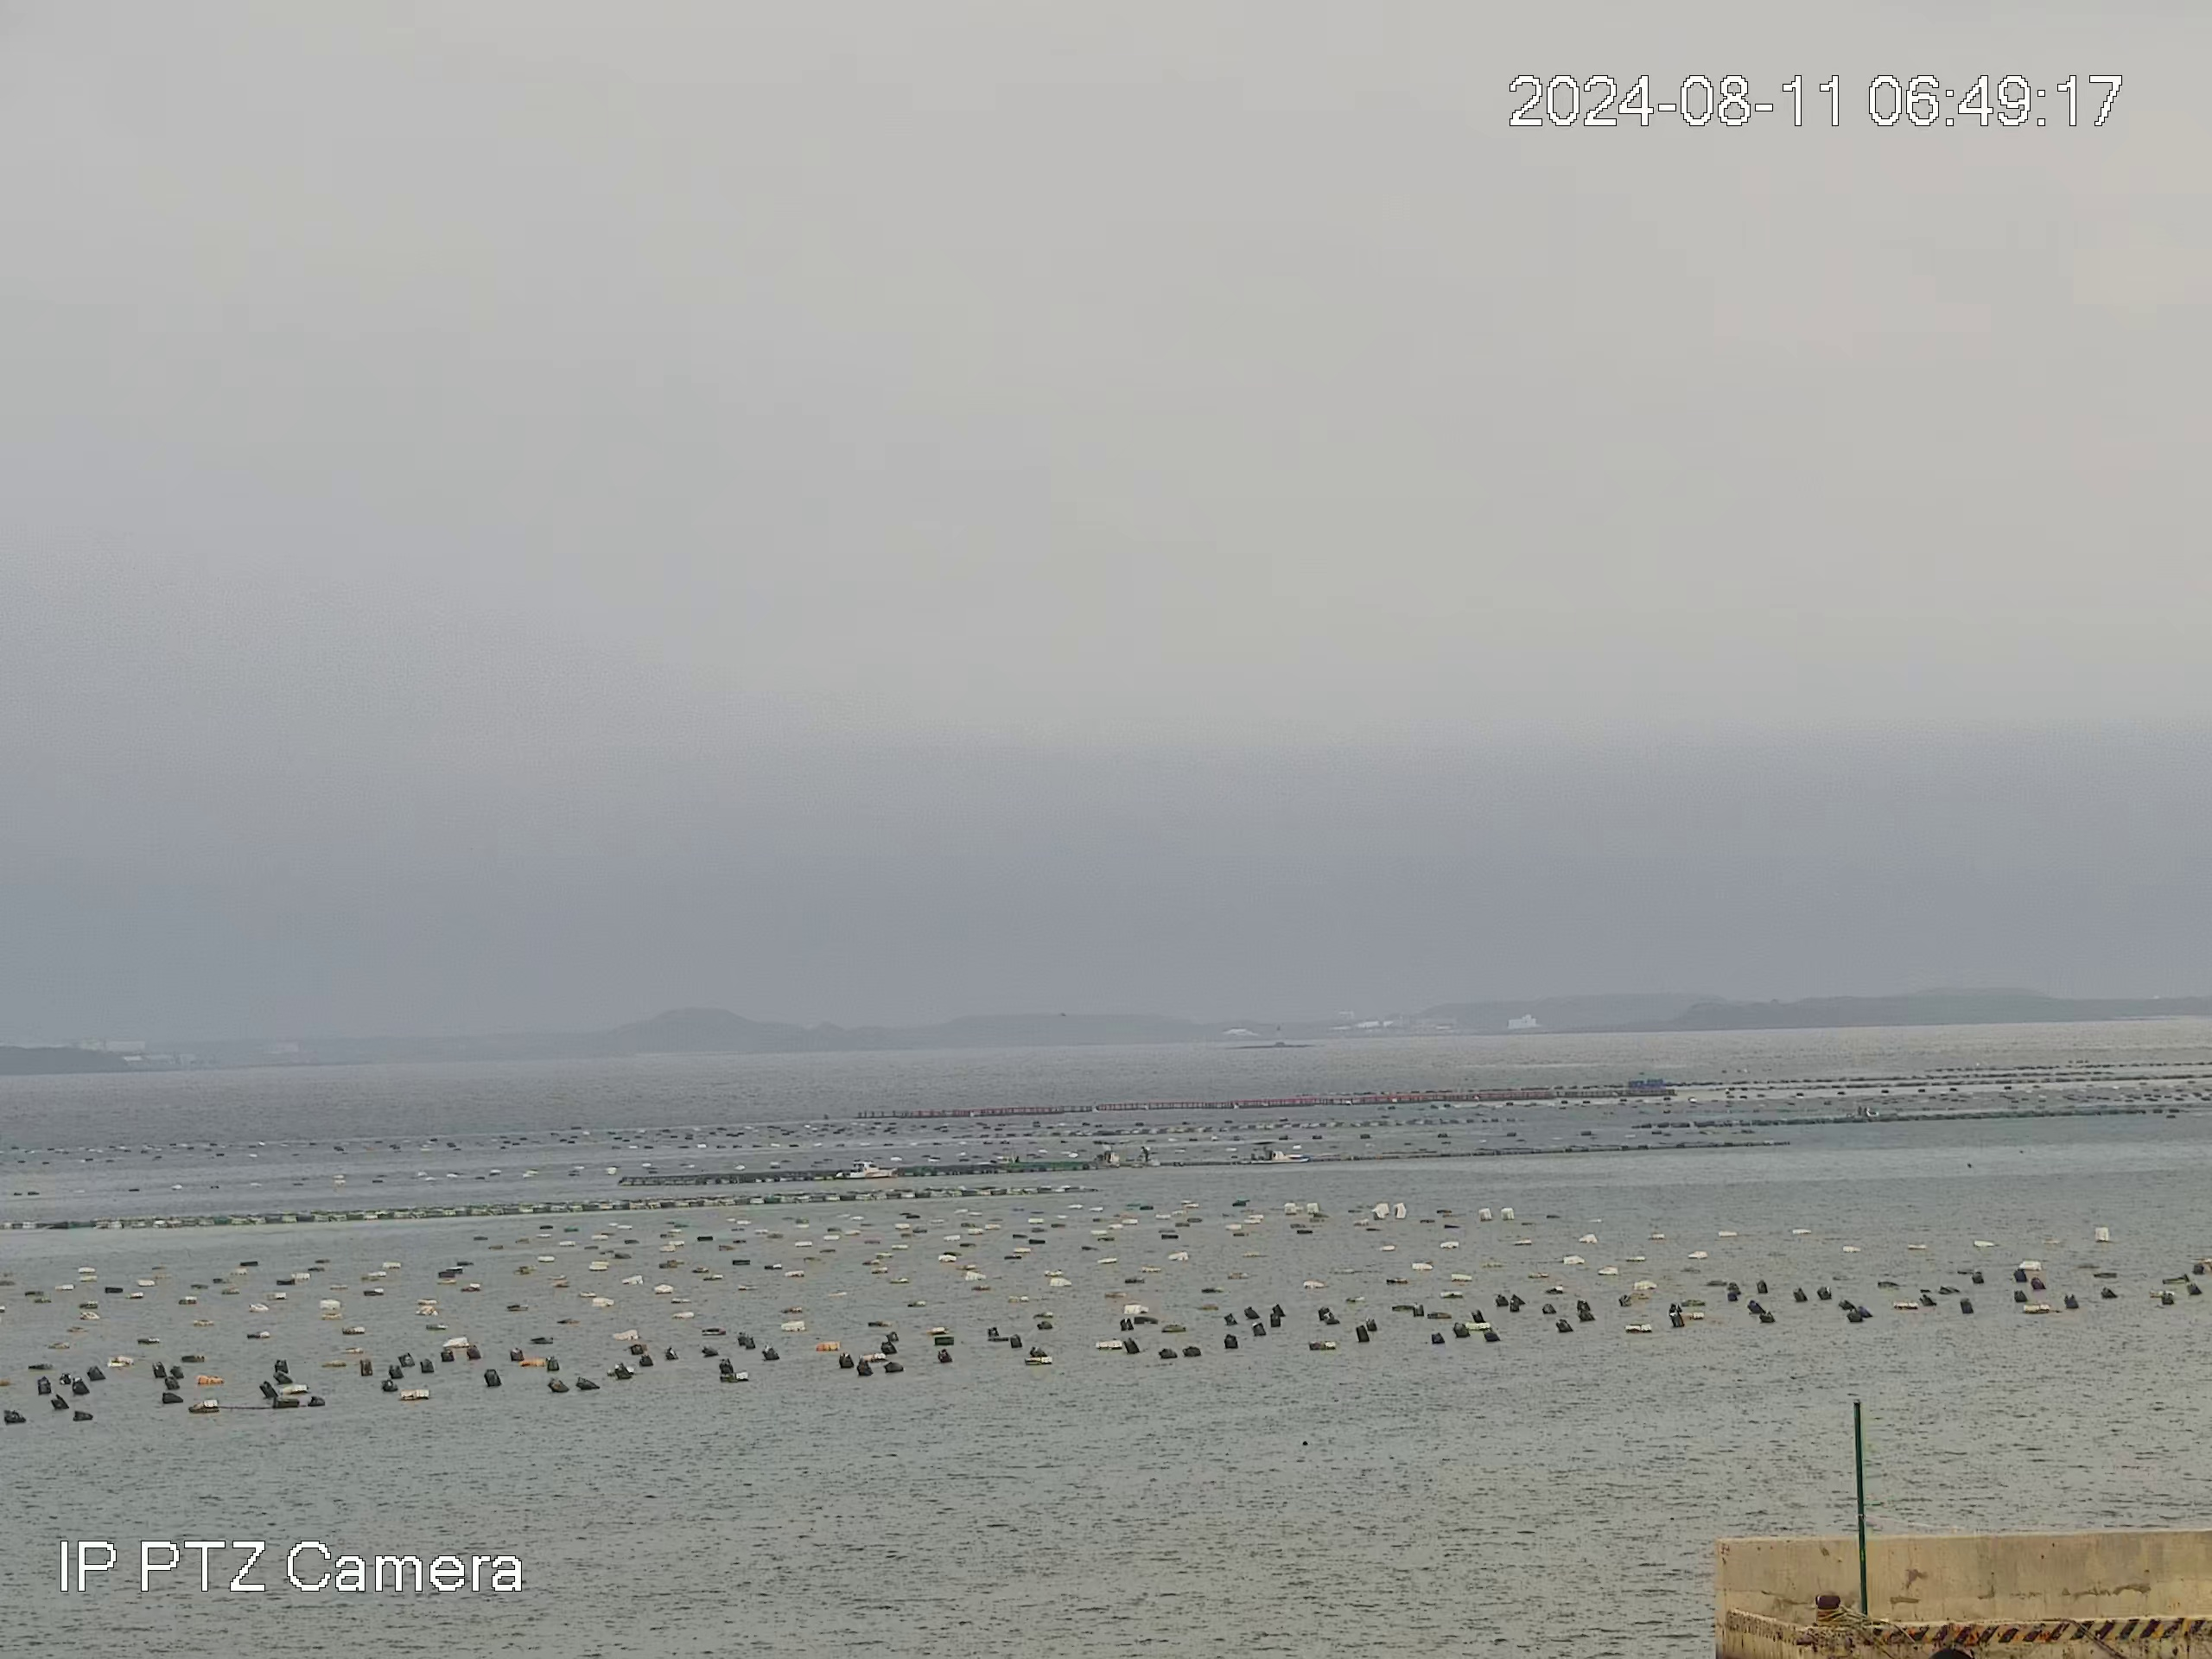boat: (833, 1159, 895, 1180), (1251, 1148, 1287, 1164)
